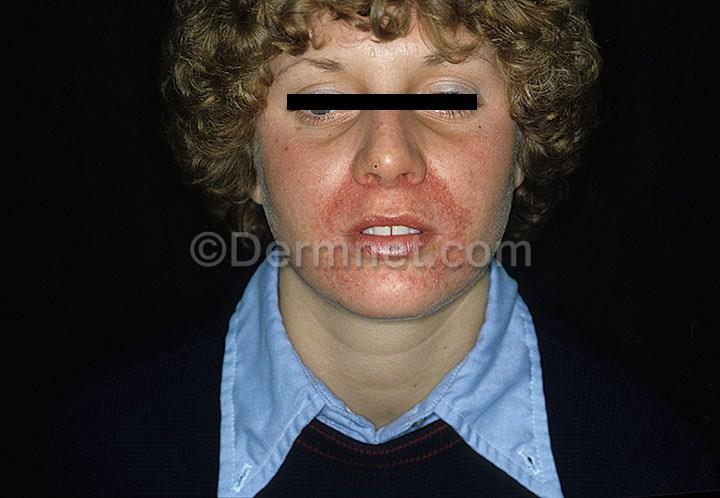Dry-Skin: (296, 117, 375, 165), (417, 109, 479, 165), (421, 134, 467, 199), (412, 71, 495, 95), (290, 69, 351, 91), (321, 176, 354, 205)
